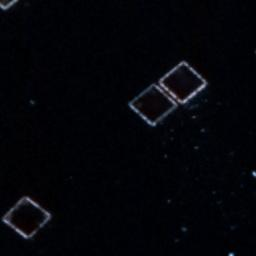square_solid: (155, 56, 211, 108), (124, 79, 182, 129), (1, 192, 56, 242)
